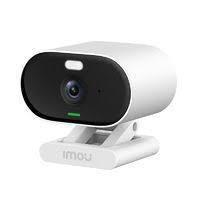tutu: (20, 40, 176, 126)
